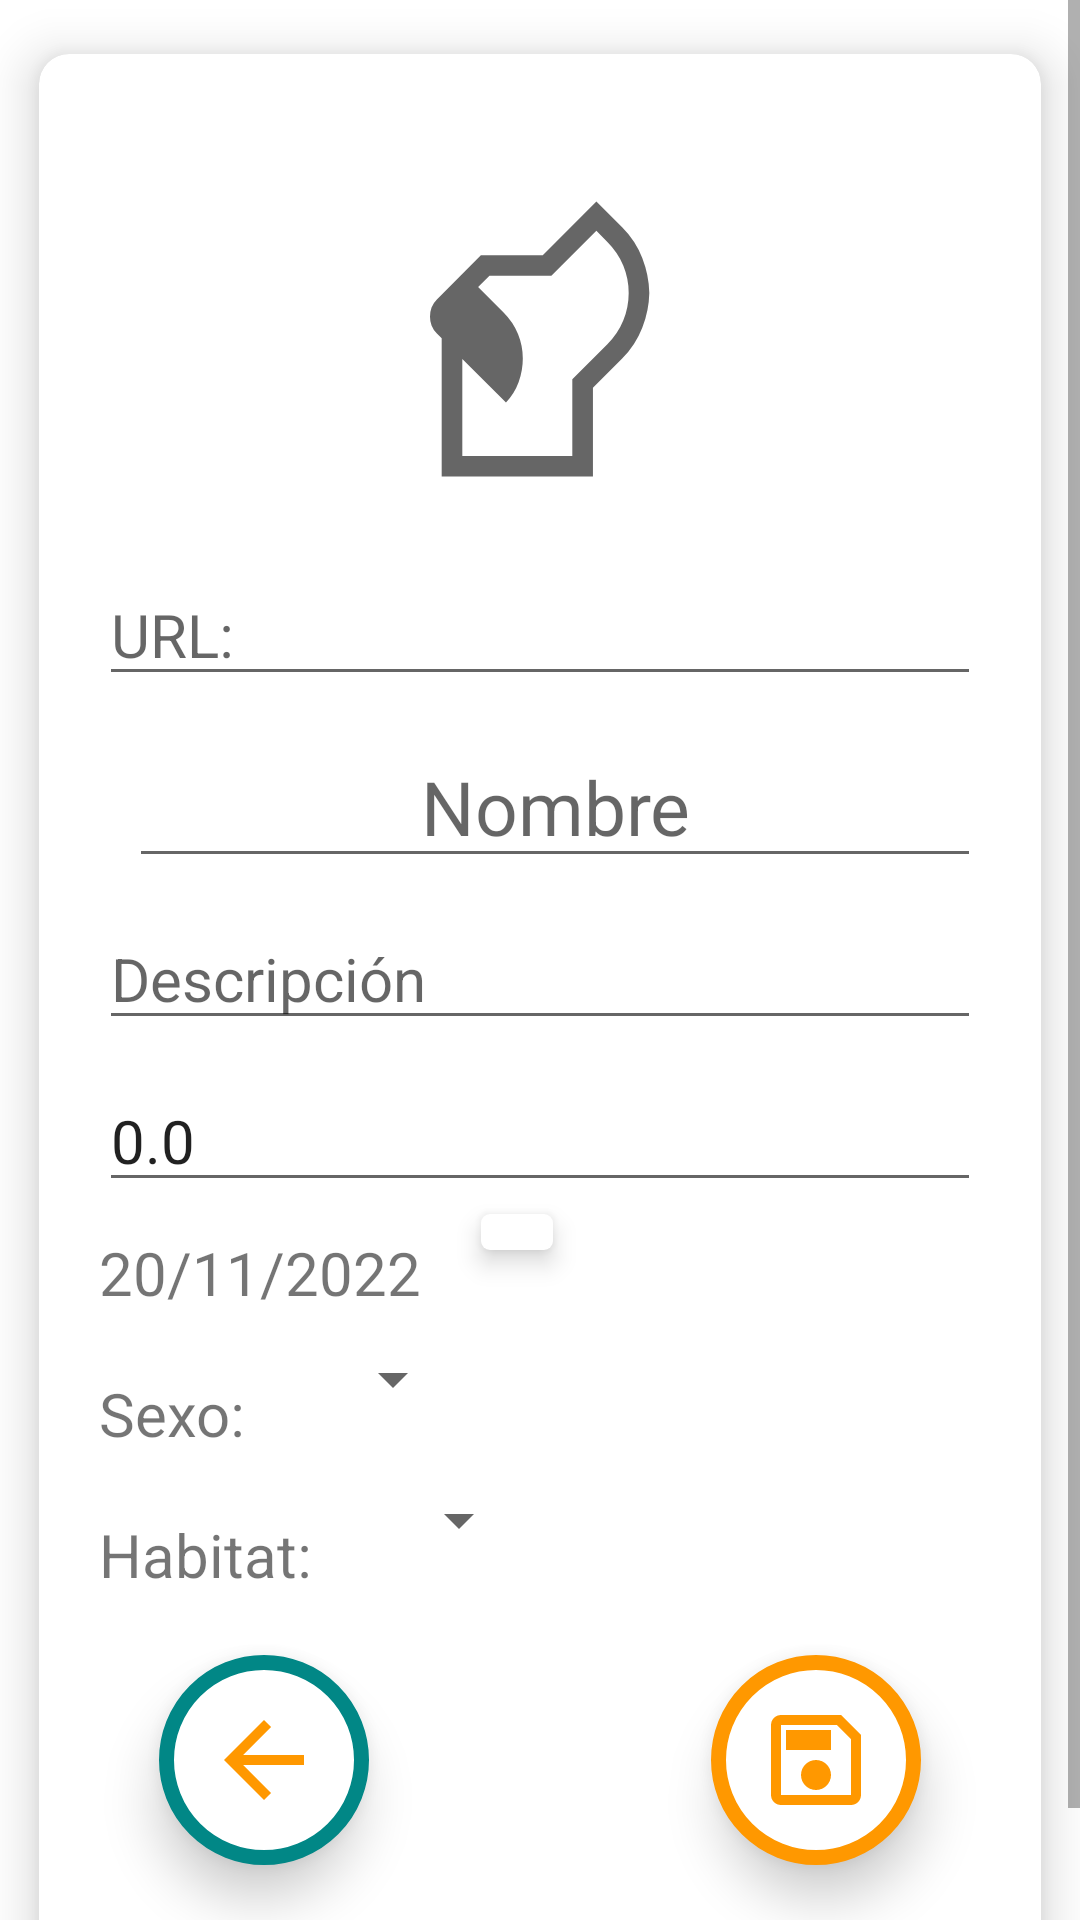

Screen size 1080px×1920px. Icon name, then its center in pixels as point (x, y):
Aceptar: point (816, 1760)
Cancelar: point (264, 1760)
dog: point (540, 339)
